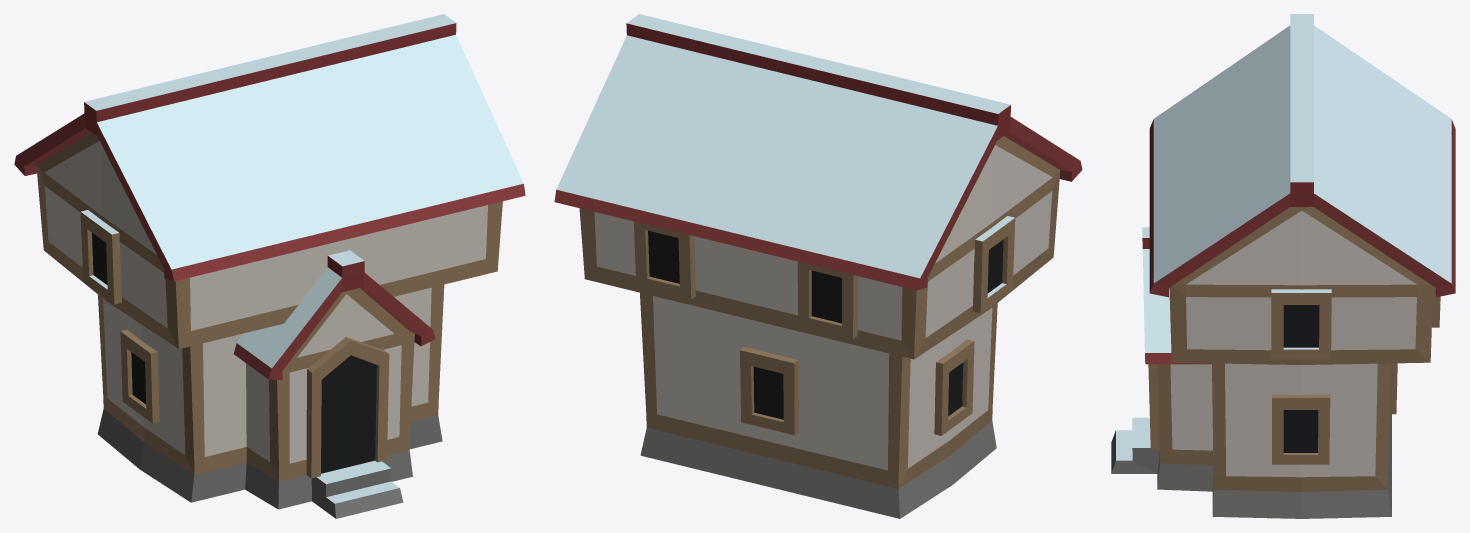
The model's file is SM_Bld_Knights_House_02_Snow.fbx.
3 views of the same model, side by side, from view 1: azimuth 30°, elevation 25°; view 2: azimuth 150°, elevation 25°; view 3: azimuth 270°, elevation 25° (orthographic). The views are drawn at different scales.
Visible parts, largest first — view 1: SM_Bld_Knights_House_02_Snow; view 2: SM_Bld_Knights_House_02_Snow; view 3: SM_Bld_Knights_House_02_Snow.
Boxes of the visible parts, x1,y1,x2,y2 form: SM_Bld_Knights_House_02_Snow: [14, 14, 525, 518]; SM_Bld_Knights_House_02_Snow: [554, 14, 1082, 518]; SM_Bld_Knights_House_02_Snow: [1111, 14, 1455, 518].
Size of the model in its own units: 129 by 128 by 111.
1 material, 1 textured.
